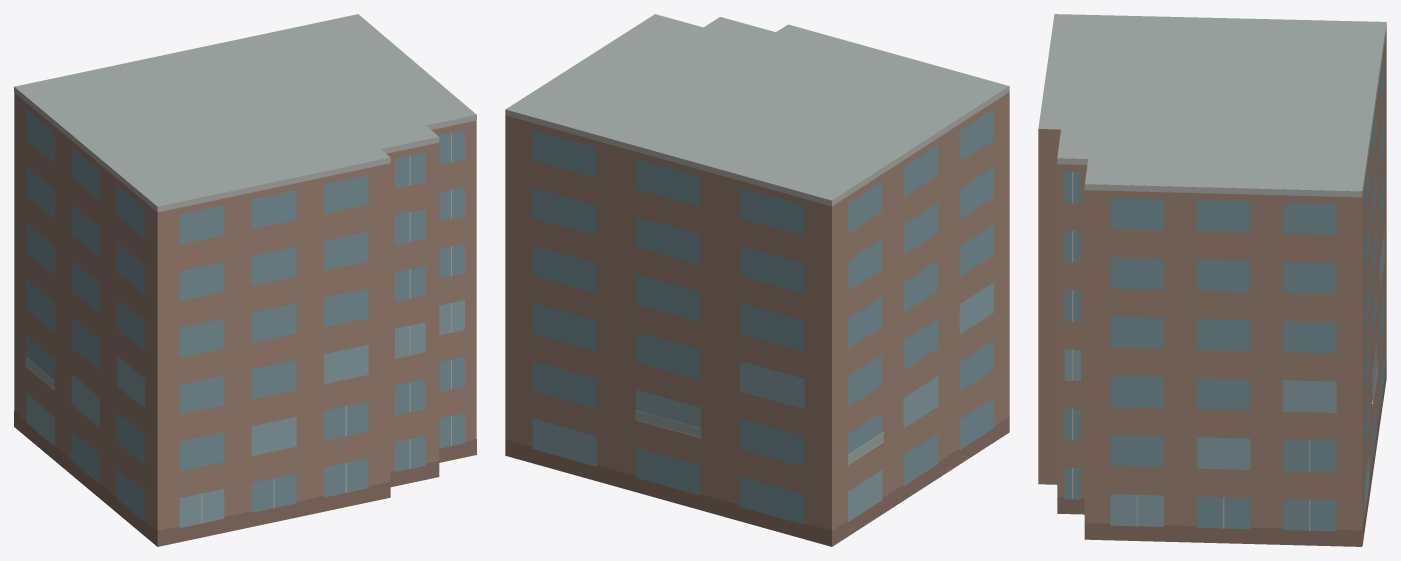
The model's file is survey-upis-32955070.glb.
3 renders of one model, left to right at view 1: azimuth 30°, elevation 25°; view 2: azimuth 150°, elevation 25°; view 3: azimuth 270°, elevation 25°, orthographic. The views are drawn at different scales.
Visible parts, largest first — view 1: survey-upis-32955070.tmp; view 2: survey-upis-32955070.tmp; view 3: survey-upis-32955070.tmp.
Boxes of the visible parts, left/top/right/bottom form: survey-upis-32955070.tmp: left=14, top=14, right=476, bottom=546; survey-upis-32955070.tmp: left=505, top=14, right=1009, bottom=546; survey-upis-32955070.tmp: left=1038, top=14, right=1386, bottom=546.
Bounding box in the file's own units: 15.59 × 14.55 × 12.93.
